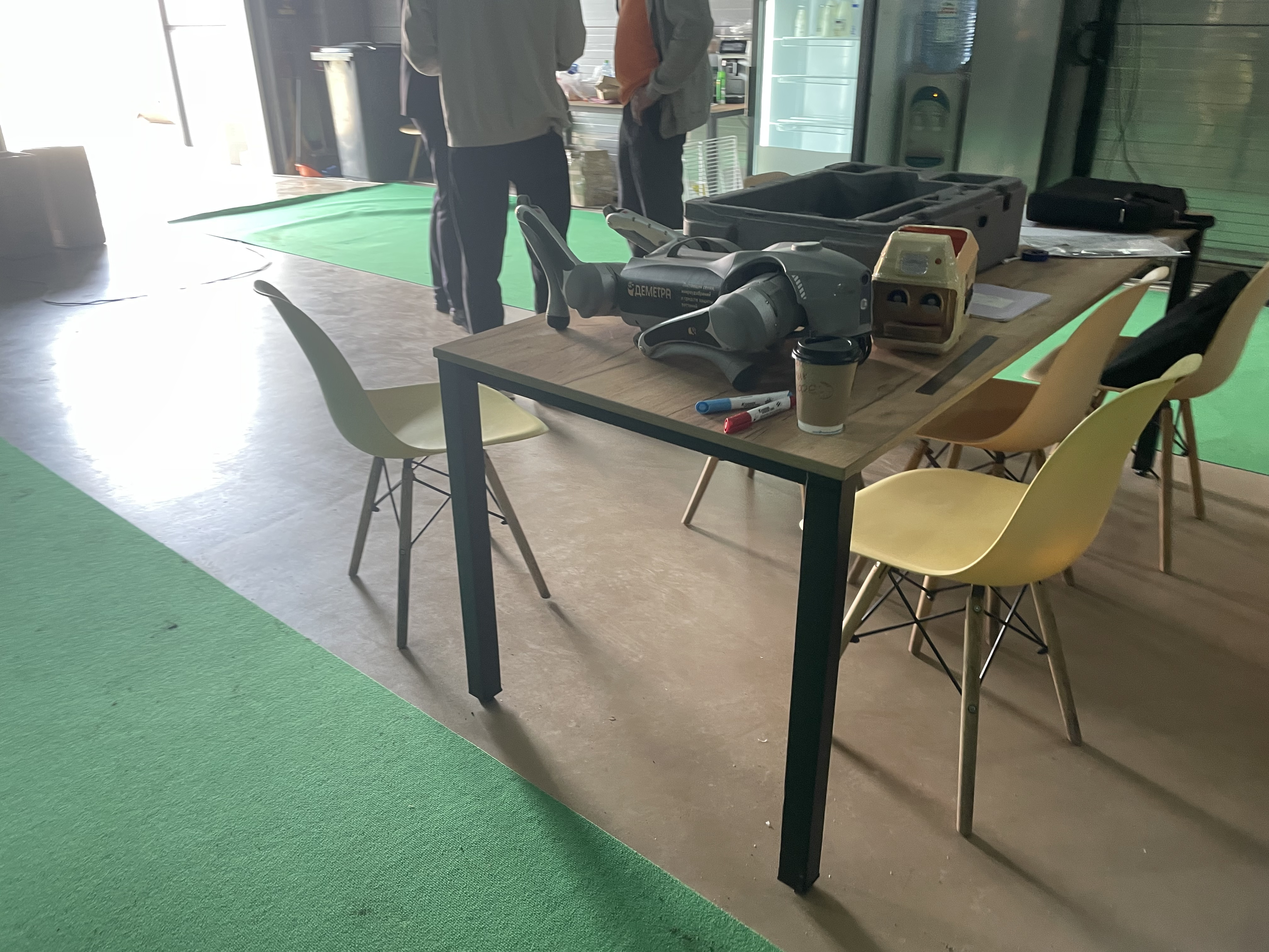cup: (791, 335, 863, 436)
